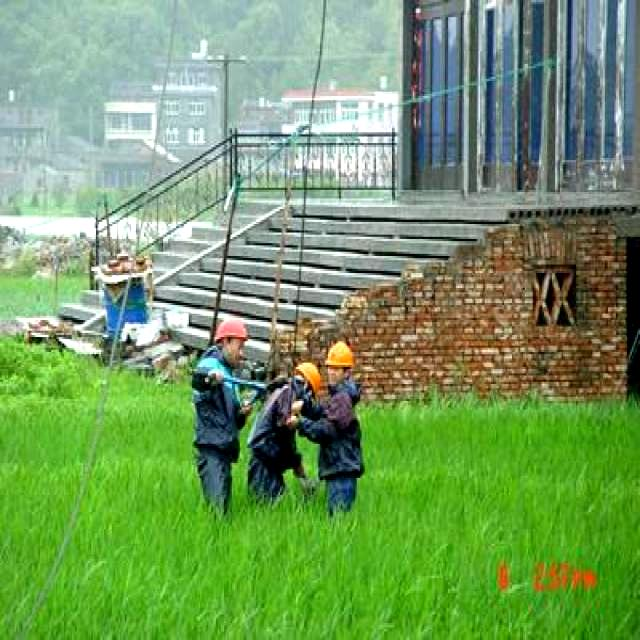hard_hat: (294, 363, 320, 393), (326, 341, 354, 367), (214, 318, 246, 339)
person: (194, 318, 251, 512), (248, 363, 318, 499), (317, 341, 362, 512)
